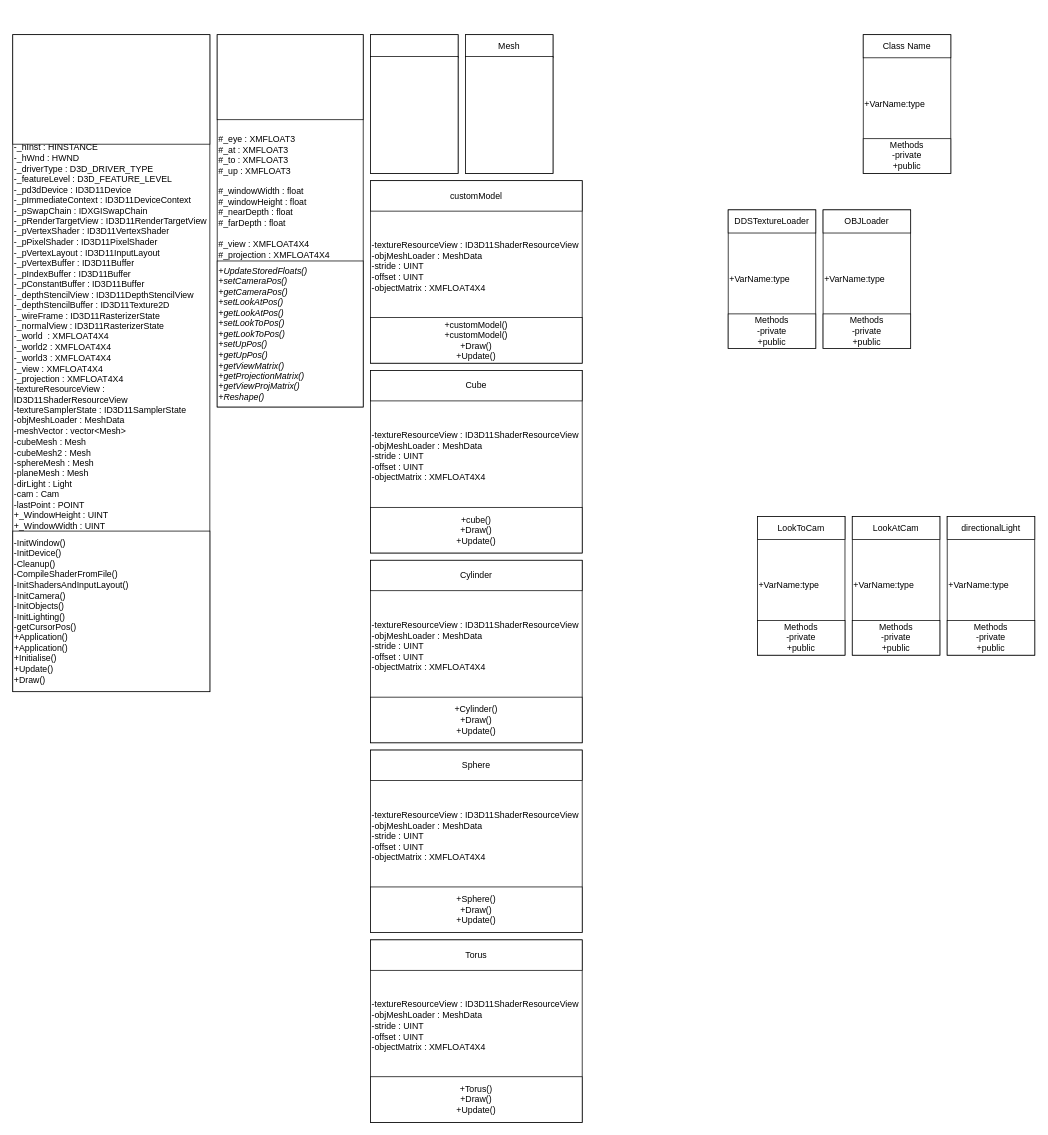
Image size: 1048x1135. Some labels were removed from this diagram. The centre of each missing label's shape, as x and y in pixels:
#Draw(): the point at 414,114
#Draw() #Update(): the point at 509,114
Application: the point at 111,89
Cam: the point at 289,77
Light: the point at 414,46
